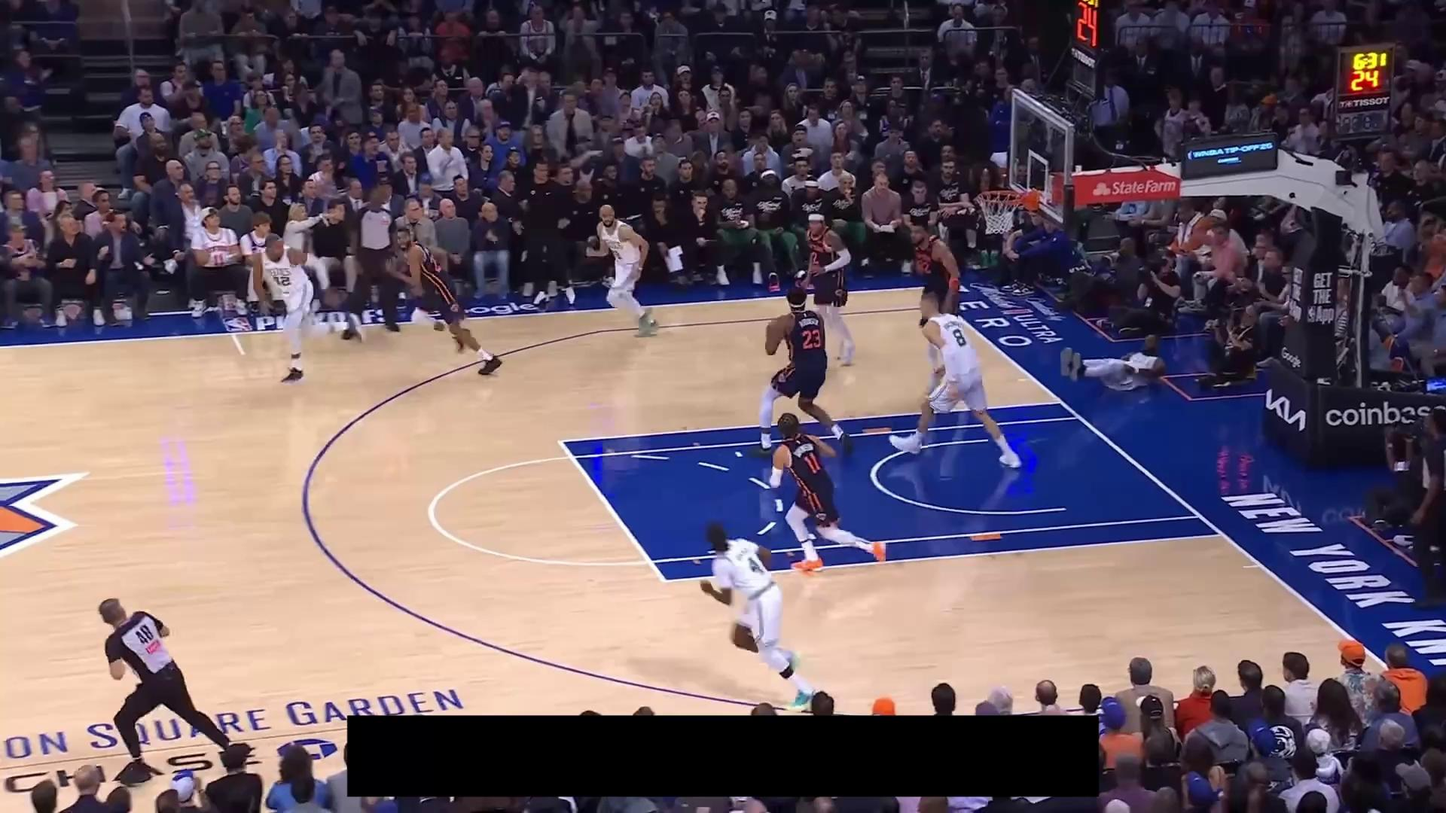number: (801, 328, 822, 350), (804, 452, 822, 475), (748, 555, 767, 574), (951, 328, 967, 347), (274, 275, 291, 288), (811, 251, 819, 264)
player: (889, 291, 1023, 470), (698, 520, 820, 711), (767, 411, 887, 575), (382, 219, 502, 376), (749, 285, 853, 458), (252, 230, 338, 386), (584, 202, 660, 339), (795, 209, 859, 367), (911, 216, 965, 371), (1059, 334, 1168, 393)
referee: (101, 596, 233, 787), (346, 183, 404, 341), (1408, 407, 1445, 611)
rim: (975, 189, 1024, 205)
